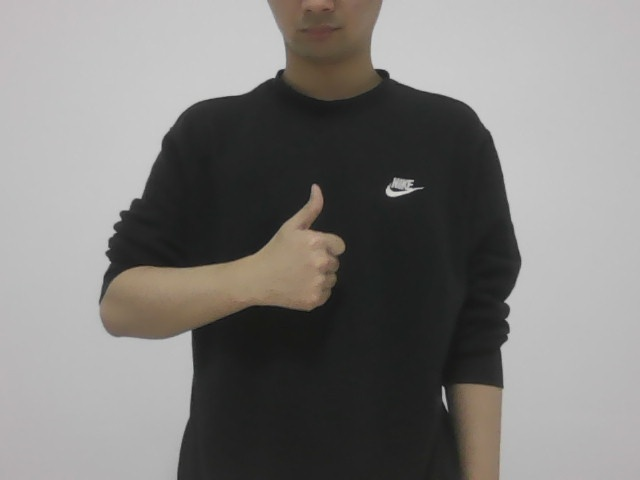good: (247, 182, 356, 320)
